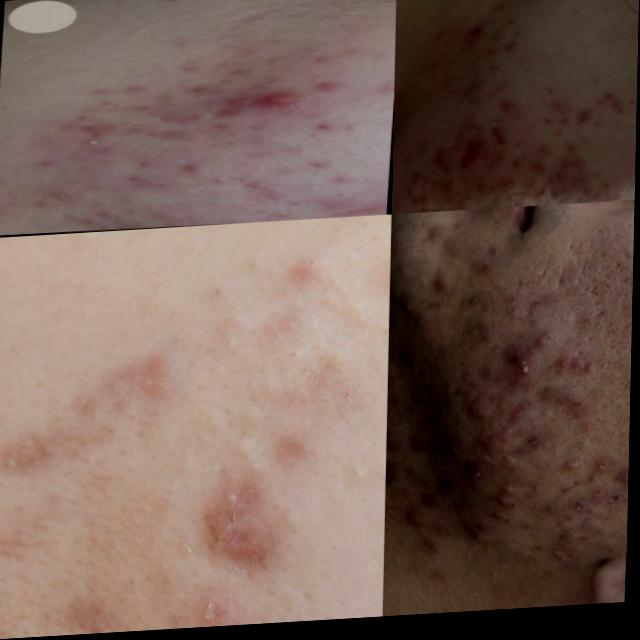8: (547, 155, 594, 211), (256, 92, 306, 112), (462, 141, 493, 171), (498, 100, 527, 127), (409, 172, 427, 203), (173, 162, 211, 174), (499, 180, 519, 202), (411, 201, 432, 218), (512, 163, 527, 178), (455, 211, 469, 216)
9: (551, 351, 574, 379), (76, 137, 108, 151)
blackheads: (0, 393, 105, 489), (180, 494, 287, 573), (498, 348, 532, 385), (597, 91, 627, 123), (433, 143, 451, 178), (488, 122, 504, 149), (576, 110, 590, 134)
pustules: (462, 398, 498, 423), (492, 486, 524, 511), (550, 461, 592, 480), (552, 556, 574, 574)
